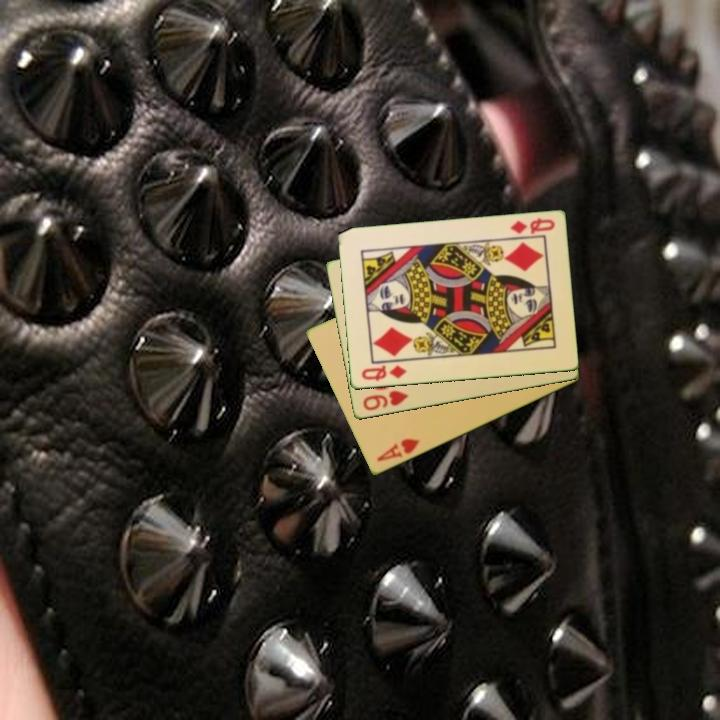9h: (359, 387, 411, 414)
Ah: (373, 435, 422, 465)
Qd: (358, 362, 409, 384), (507, 215, 557, 237)
